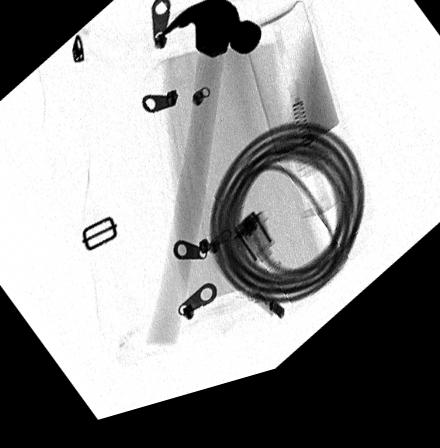Hammer: (144, 5, 261, 352)
